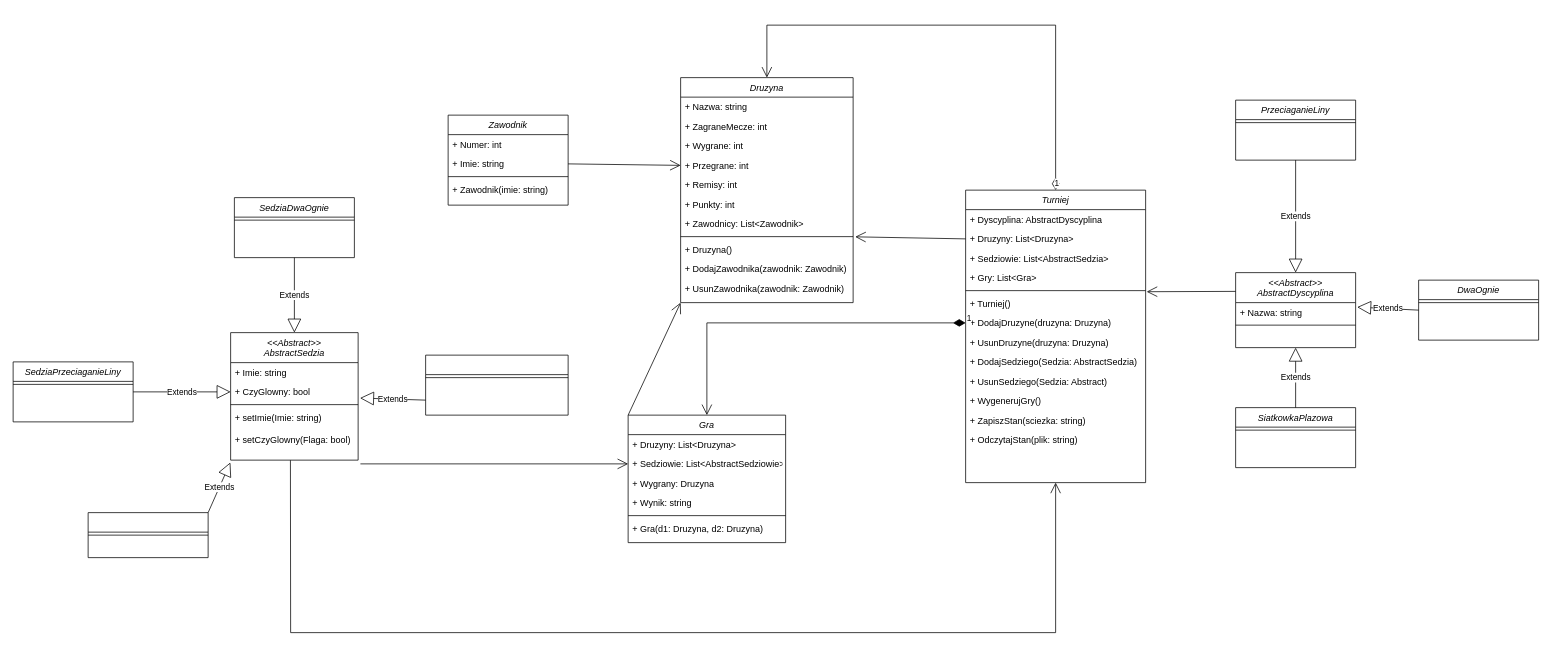
Image size: 1552x656. Some labels were removed from this diagram. The centre of each missing label's shape, as x and y in pixels:
"SedziaGlownySiatkowka" belongs at point 147,535.
"SedziaPomocniczySiatkowka" belongs at point 496,384.
